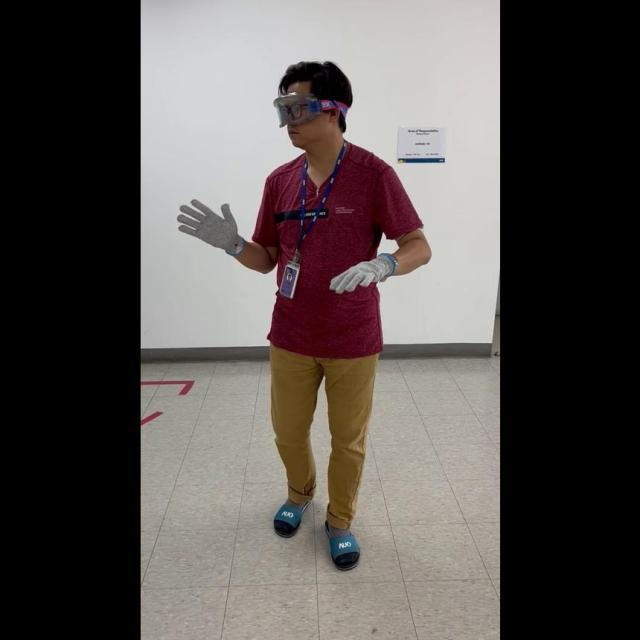gloved_hand: (175, 193, 244, 256), (328, 246, 395, 295)
